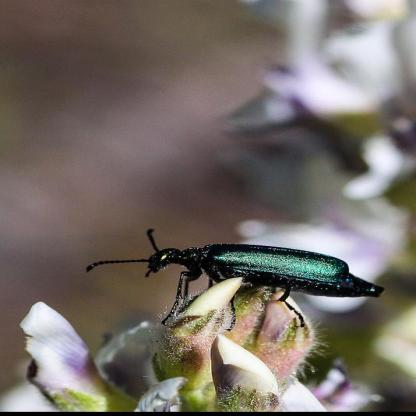beetle: (92, 227, 388, 335)
